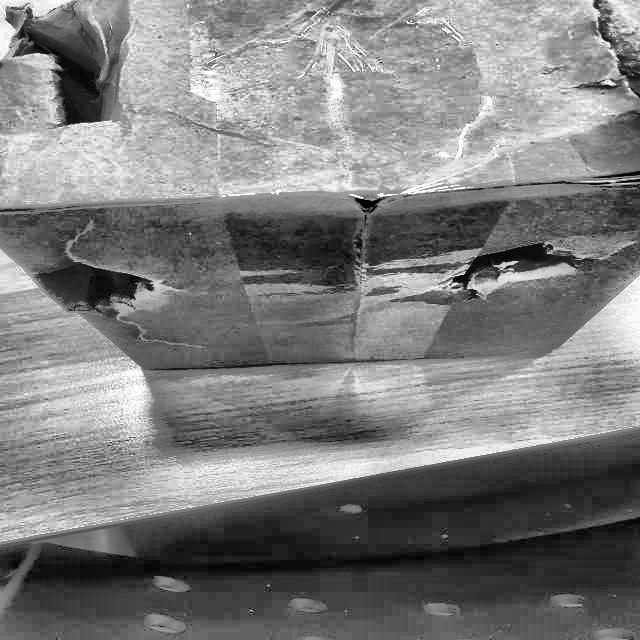box: (0, 0, 639, 377)
hole: (12, 16, 122, 122), (21, 257, 165, 318), (467, 238, 603, 290)
